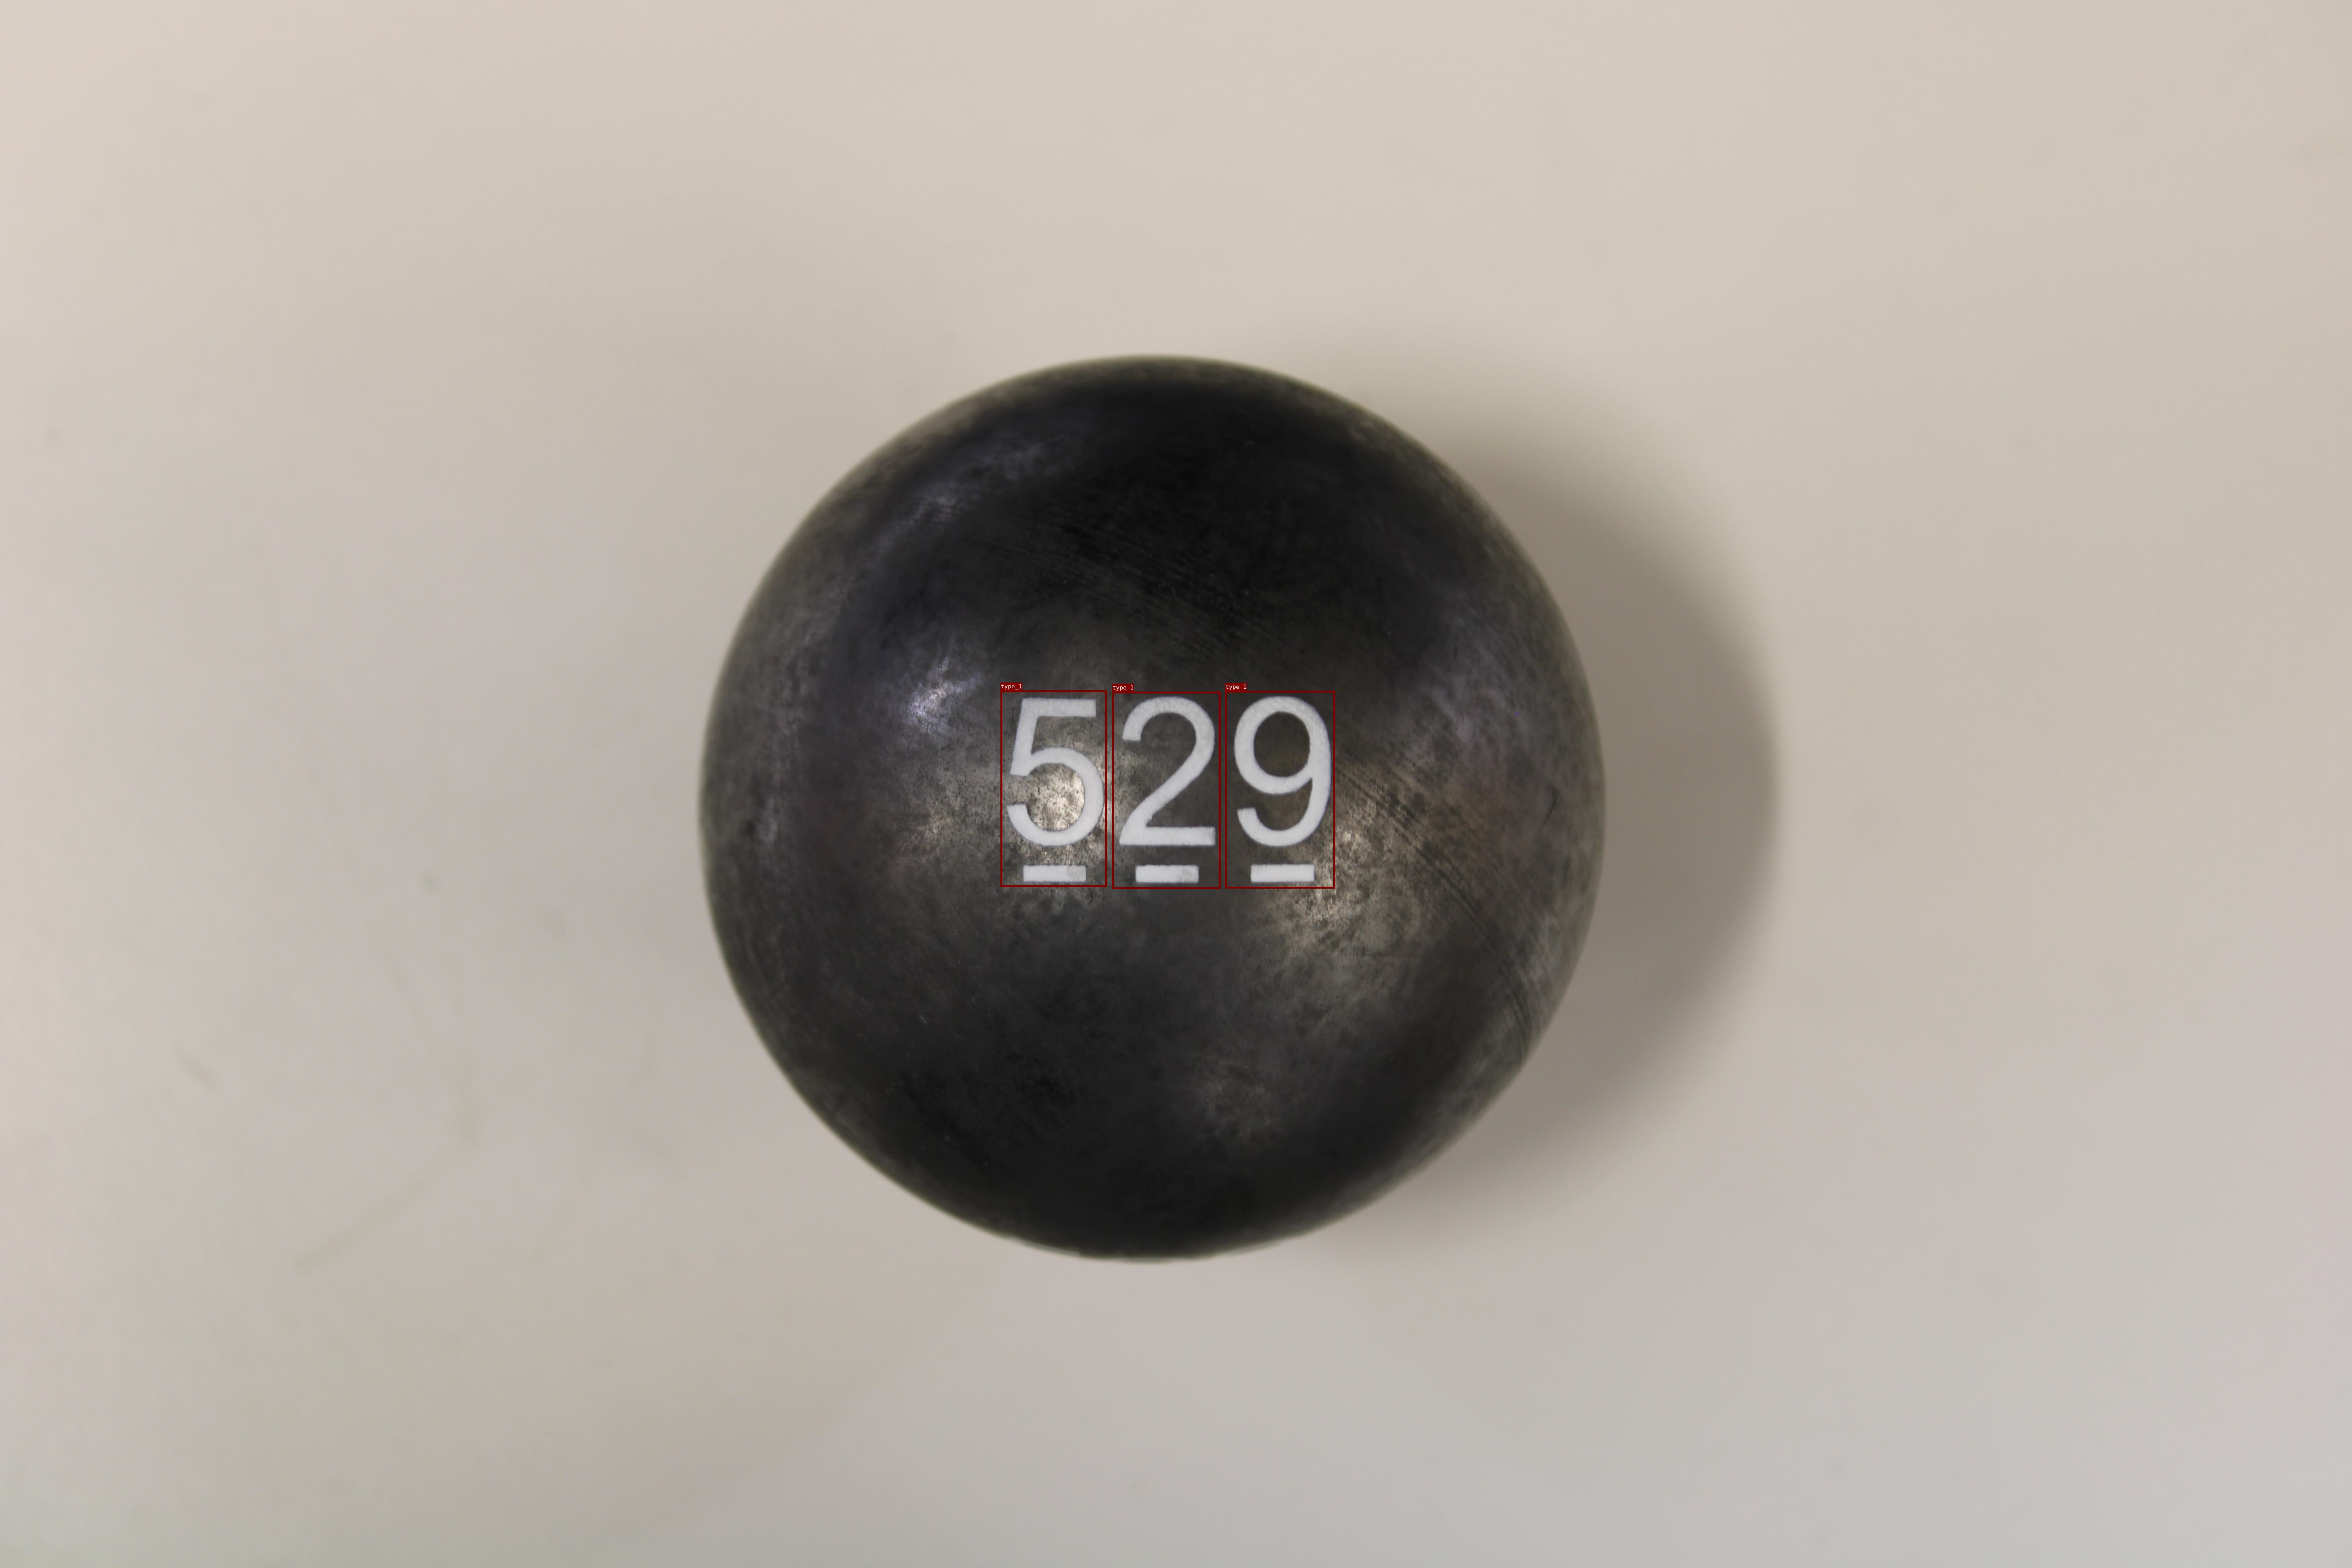type_1: (1225, 691, 1335, 889), (1111, 691, 1220, 889), (1001, 690, 1106, 887)
